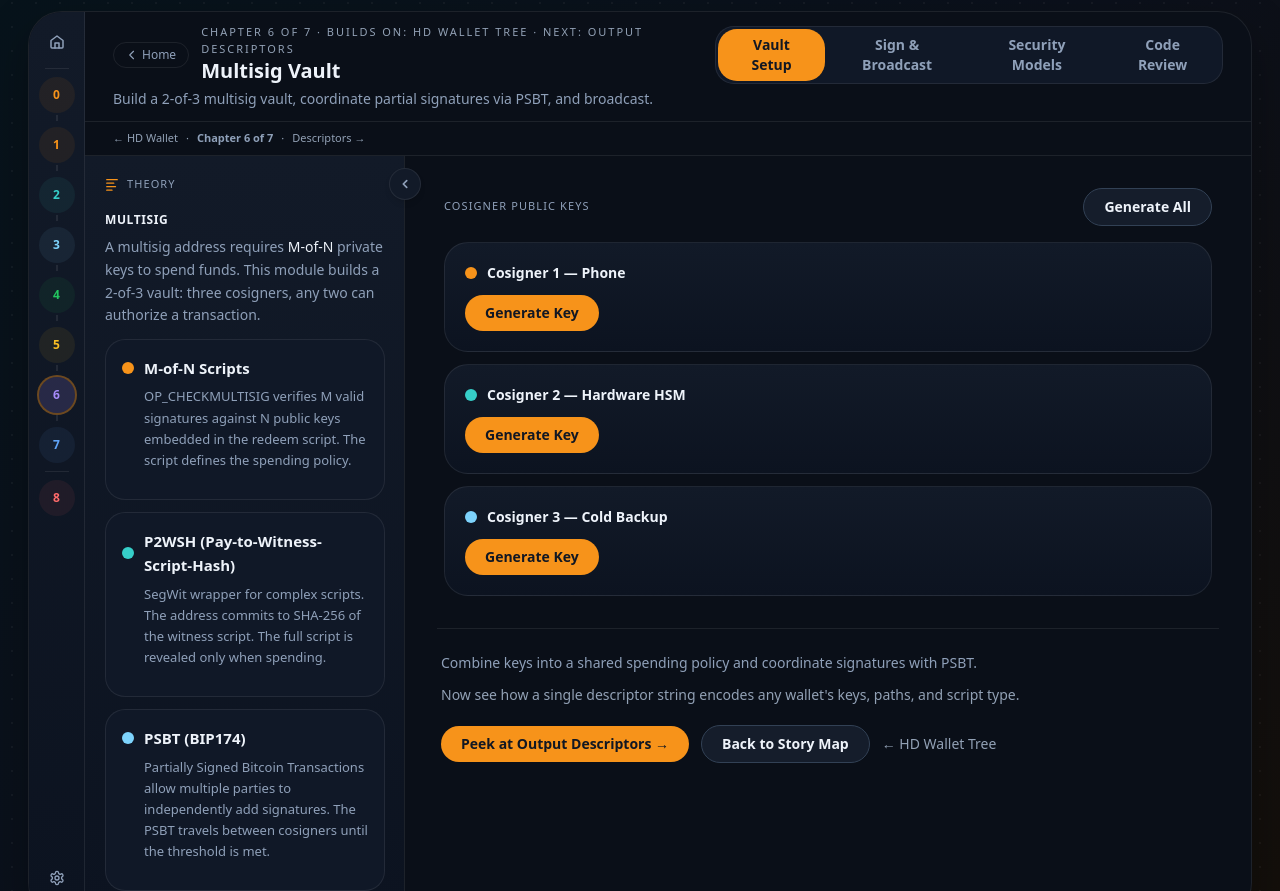
Test: MultisigVault › AC11: model navigation with Next / Previous
Click the tab "Security Models" at (1037, 54), box x1=969 y1=28 x2=1105 y2=80
(page scrolled)
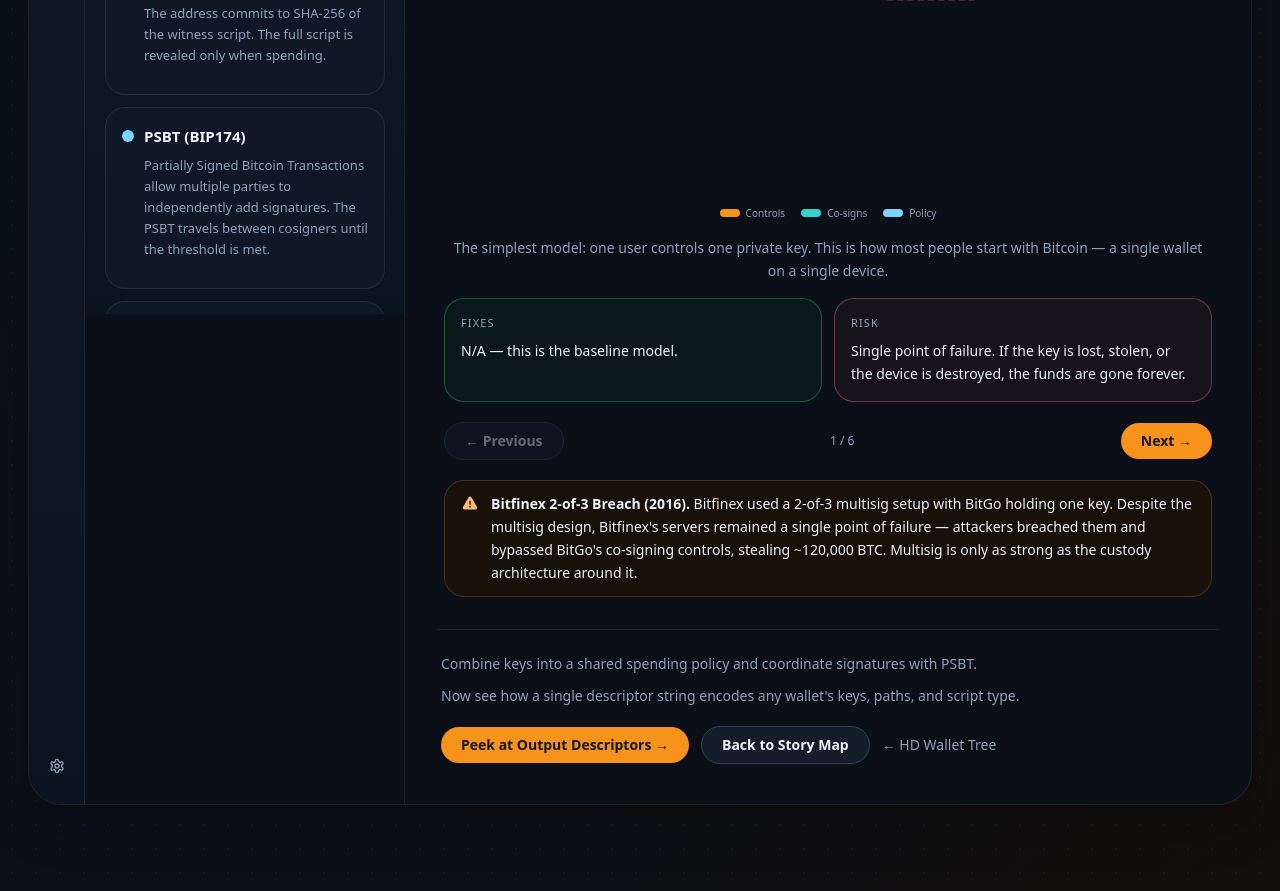
# Navigate forward
Click the button "Next →" at (1166, 441), box x1=1121 y1=423 x2=1212 y2=459
(page scrolled)
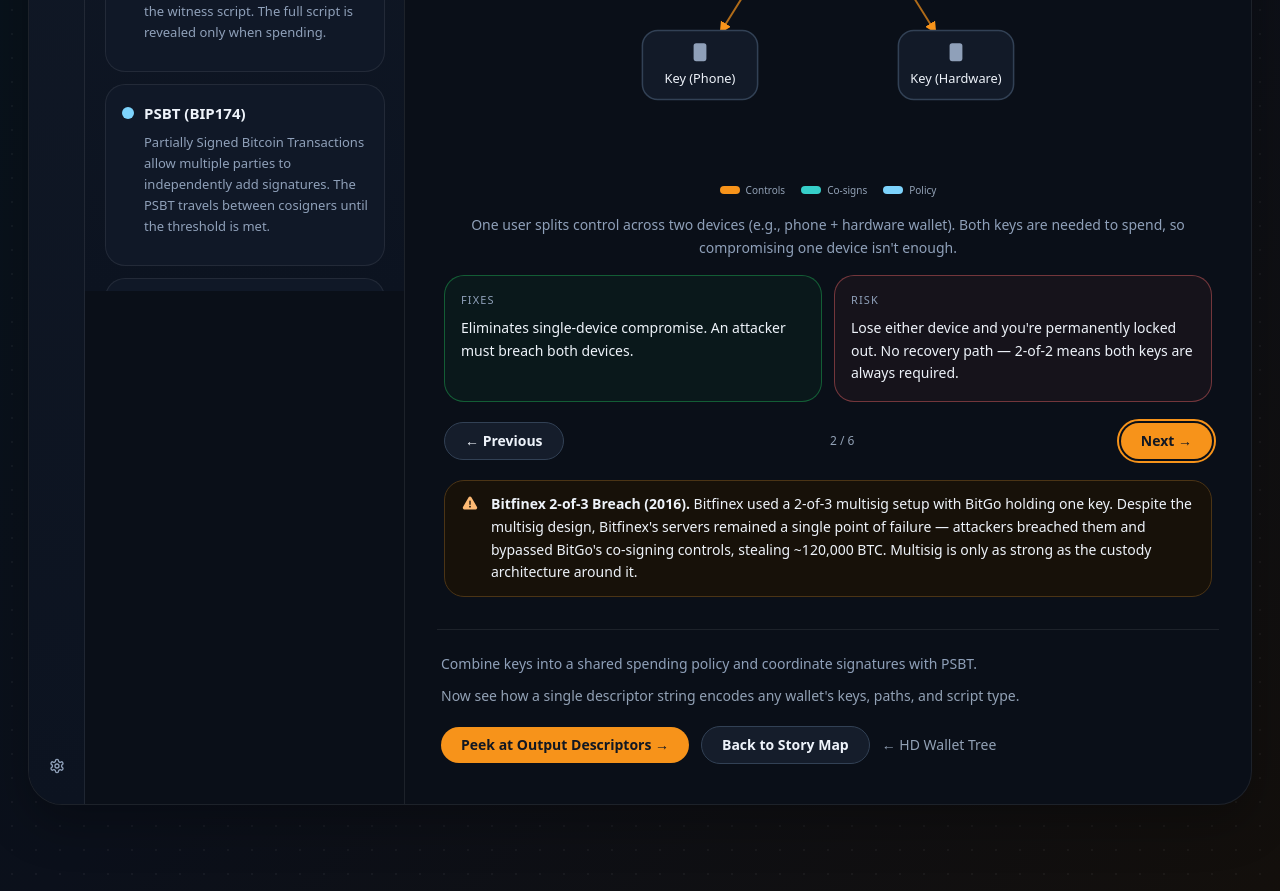
# Navigate back
Click the button "← Previous" at (504, 441), box x1=444 y1=422 x2=564 y2=460
(page scrolled)
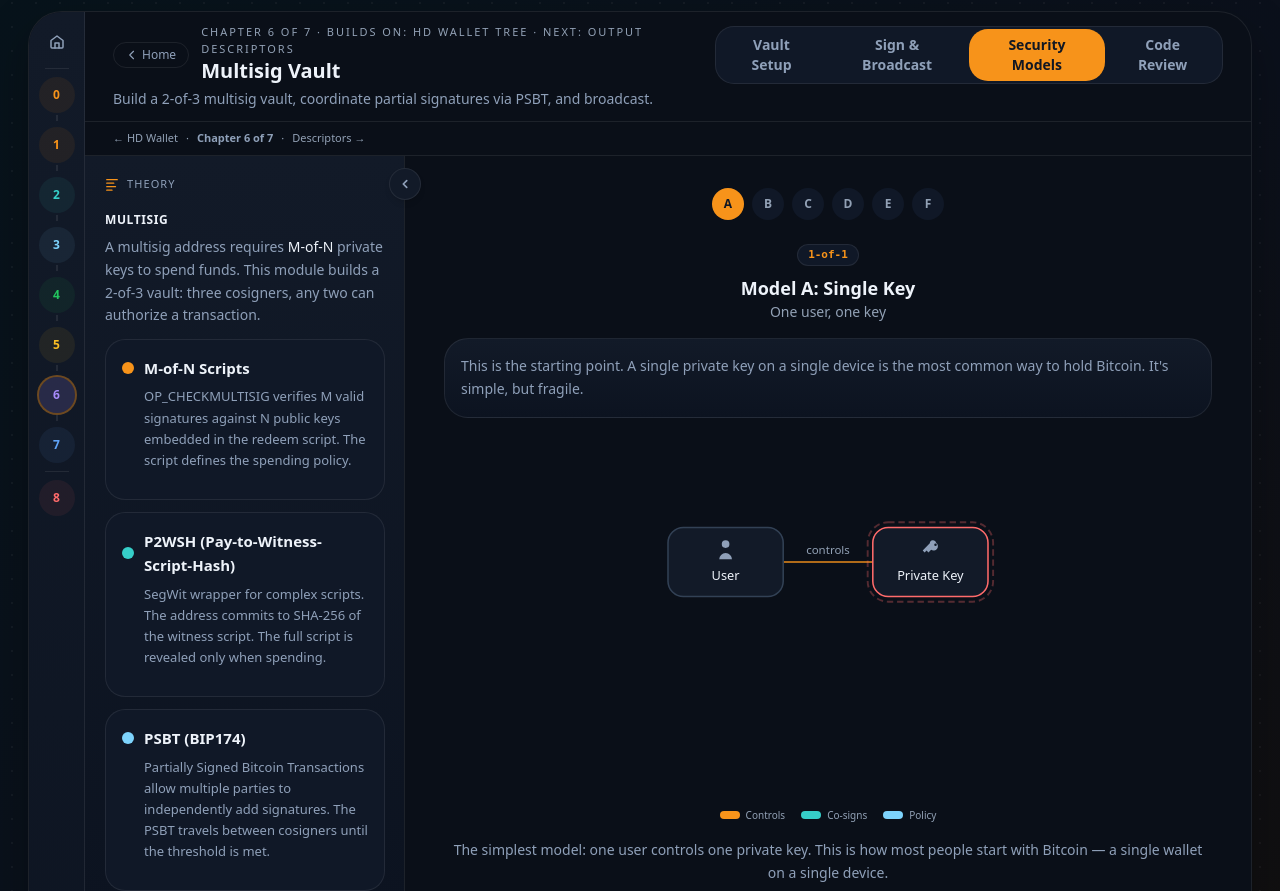
Result: the heading "Model A: Single Key" is shown at x1=741 y1=276 x2=915 y2=300
